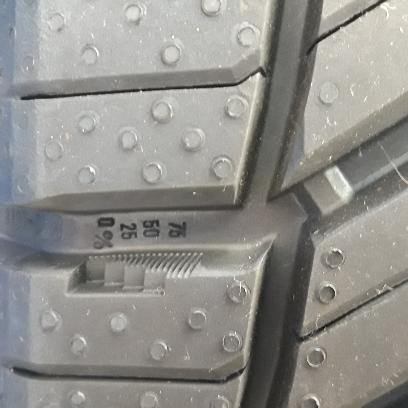temoin:100: (63, 249, 208, 301)
